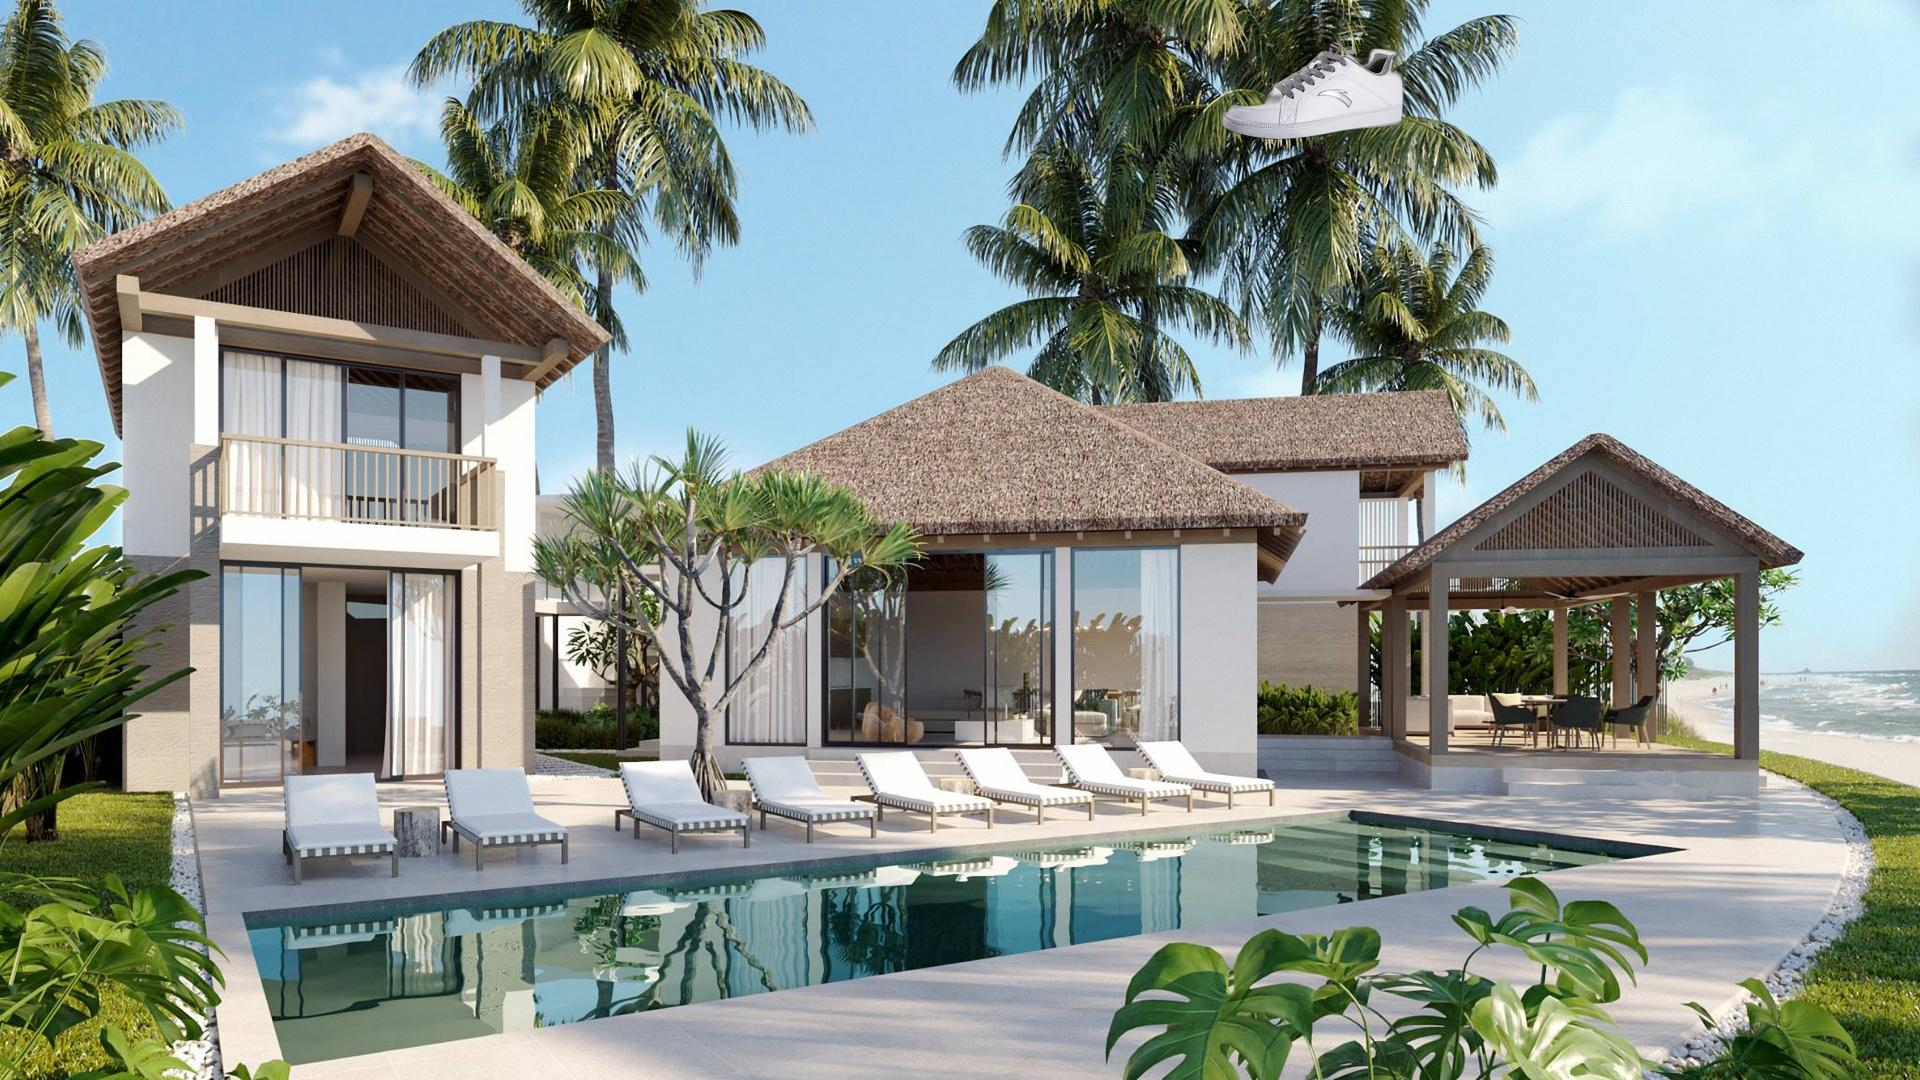shoes: (1218, 40, 1407, 142)
